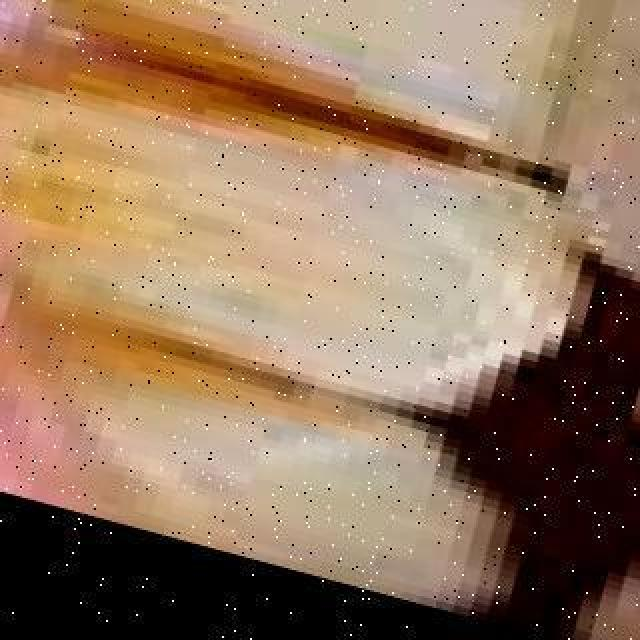maligned: (638, 270, 640, 640)
stains: (0, 22, 418, 364), (10, 0, 500, 78)
